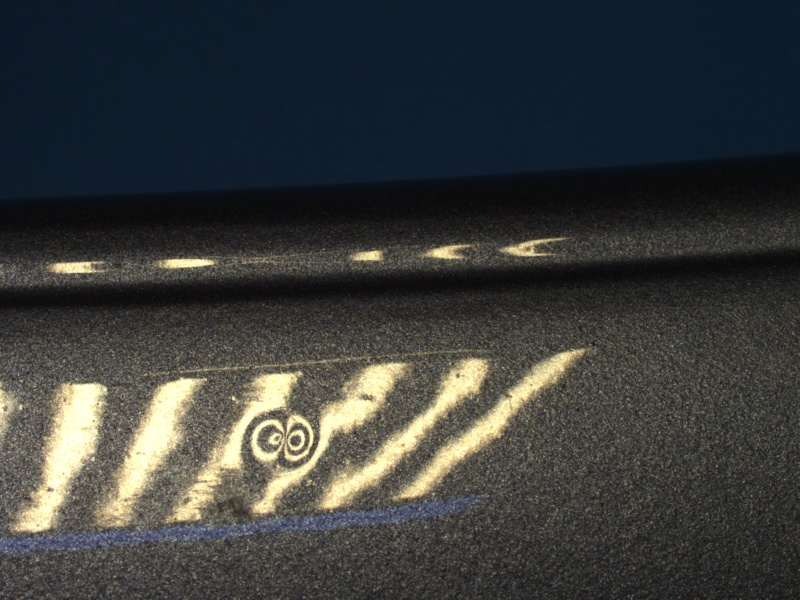bad: (238, 399, 329, 483)
